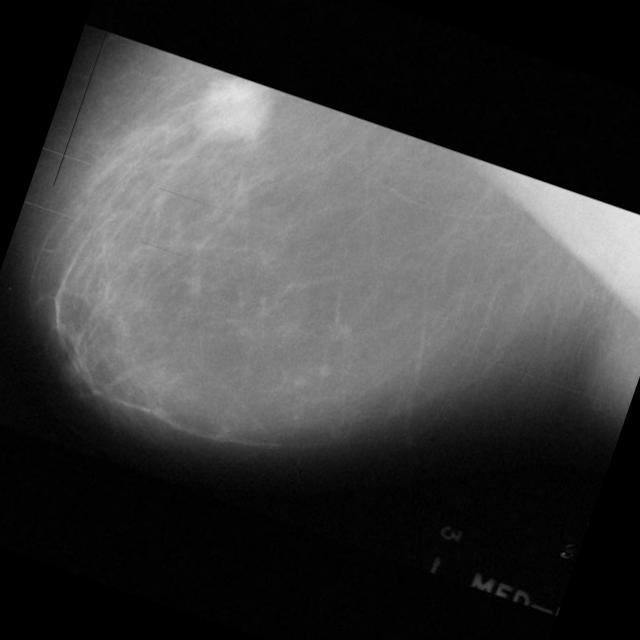MISC: (178, 55, 286, 164)
